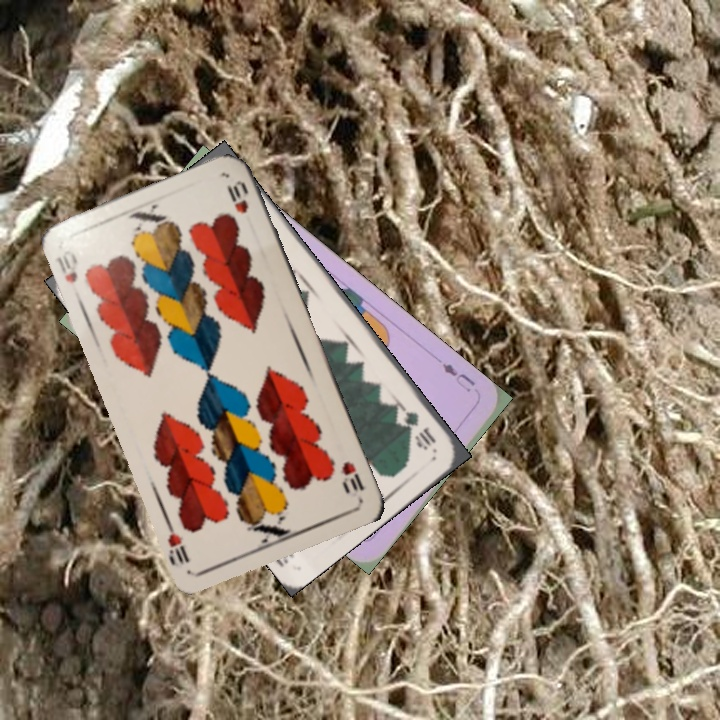EU: (438, 358, 478, 395)
G10: (392, 401, 439, 452)
H10: (337, 457, 367, 495), (52, 246, 80, 286)
